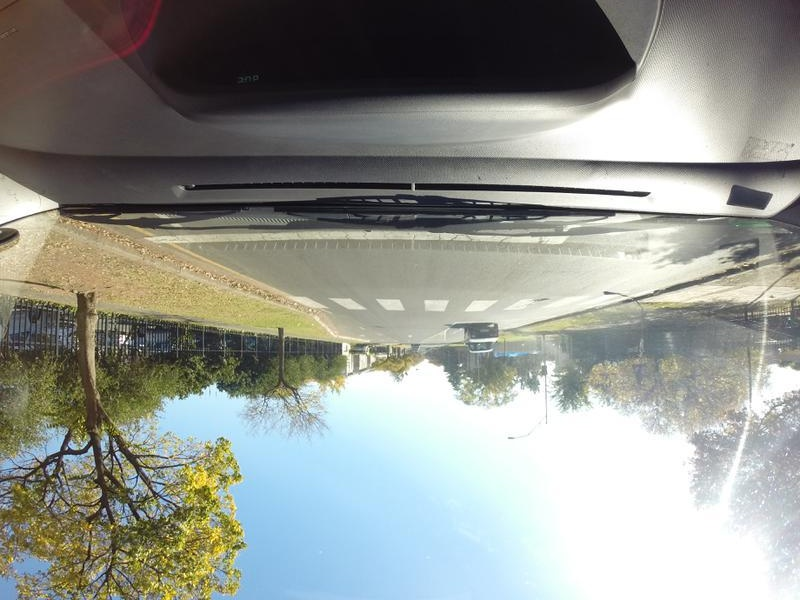pothole: (534, 295, 551, 303)
